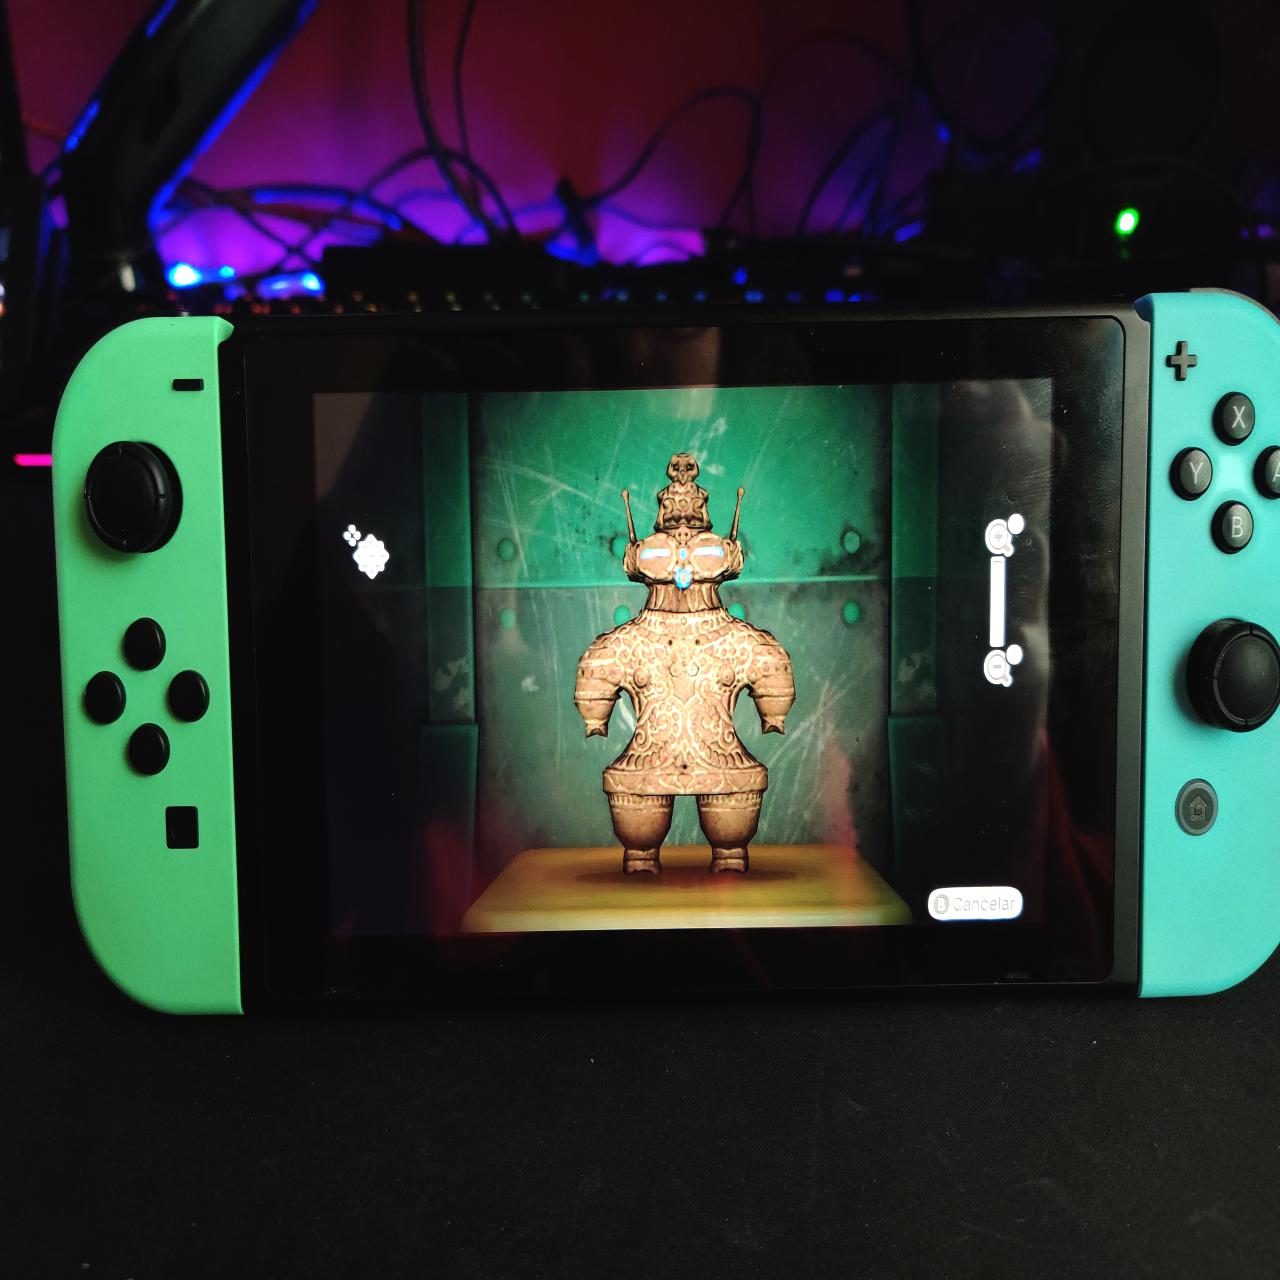DoguuFake: (572, 443, 799, 890)
